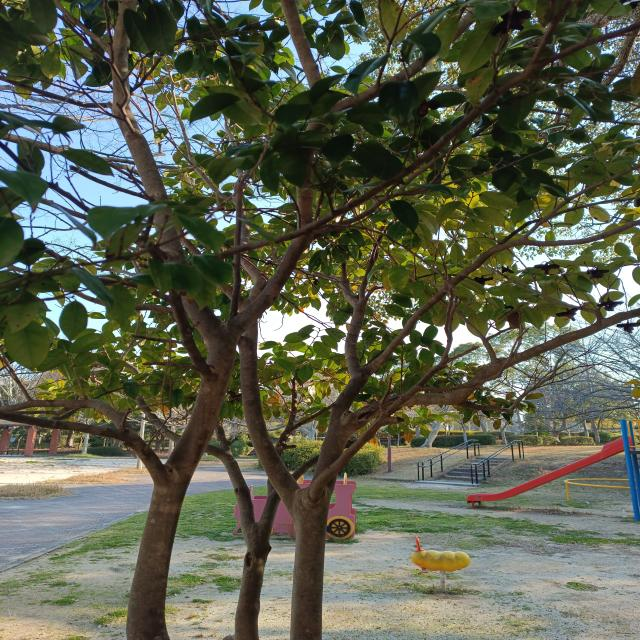Branch: (109, 0, 216, 348), (356, 307, 640, 432), (234, 100, 331, 335), (369, 244, 501, 374), (1, 399, 162, 486), (237, 299, 303, 511), (295, 269, 370, 419), (131, 395, 219, 456), (260, 454, 318, 527), (213, 447, 256, 536), (0, 410, 117, 437), (215, 418, 235, 449)
Twig: (223, 1, 640, 258), (313, 297, 455, 502), (525, 164, 640, 237), (458, 363, 598, 413), (165, 285, 212, 381), (502, 220, 640, 251), (359, 223, 391, 299), (70, 166, 145, 198), (551, 196, 639, 219), (229, 182, 242, 318), (499, 218, 572, 242), (450, 346, 479, 362)
